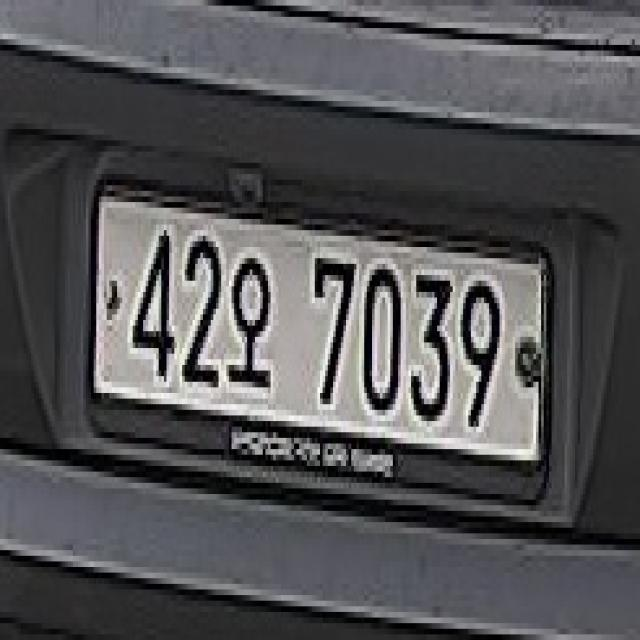plat: (88, 185, 557, 484)
